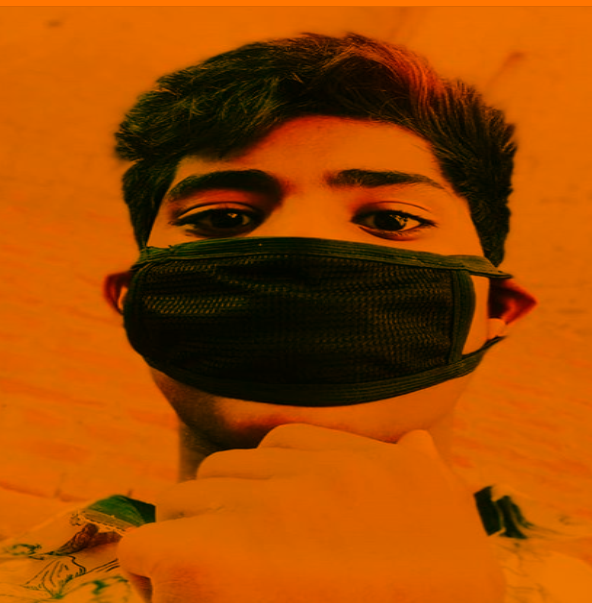mask_weared_incorrect: (99, 34, 531, 457)
